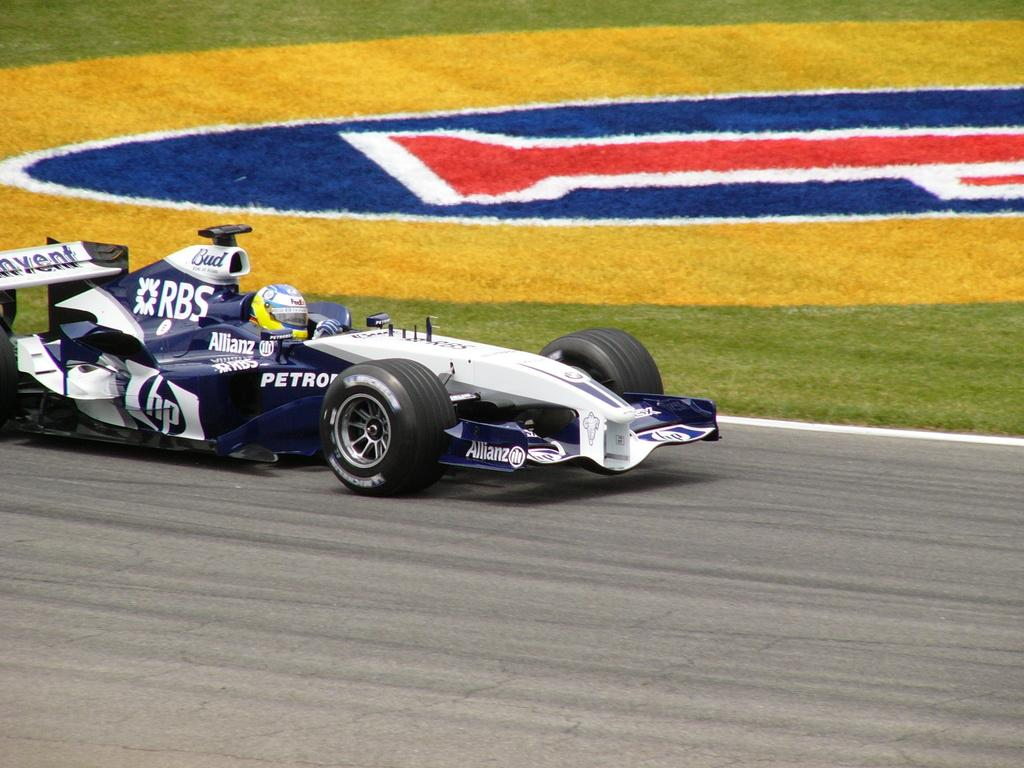helmet: (249, 284, 308, 341)
